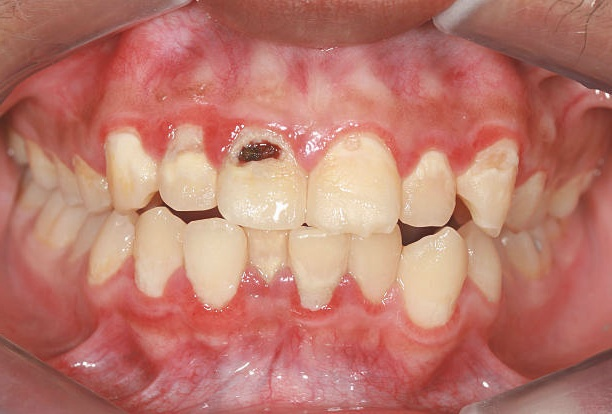Gingivitis: (112, 332, 237, 390), (145, 33, 254, 99), (326, 327, 426, 389), (364, 44, 477, 98), (197, 113, 242, 162), (240, 269, 294, 309)
